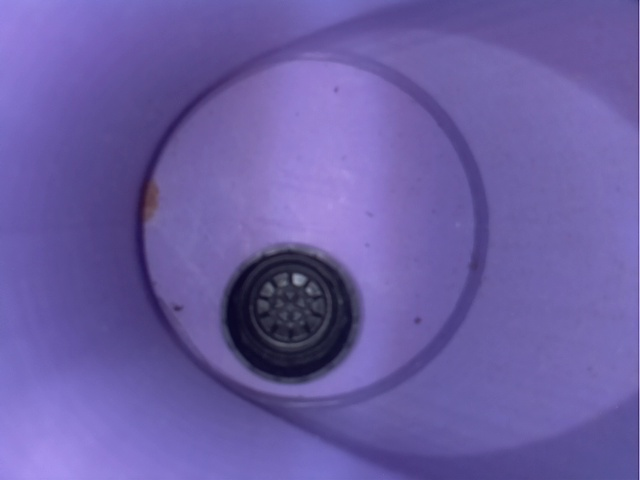bouchon: (209, 233, 380, 386)
